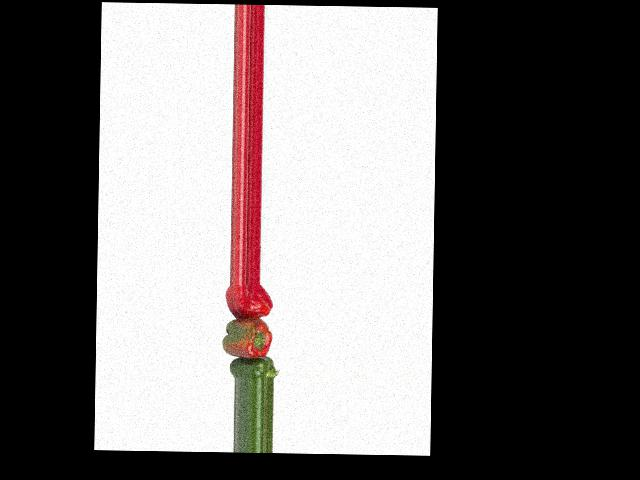bell_pepper: (222, 283, 277, 320)
